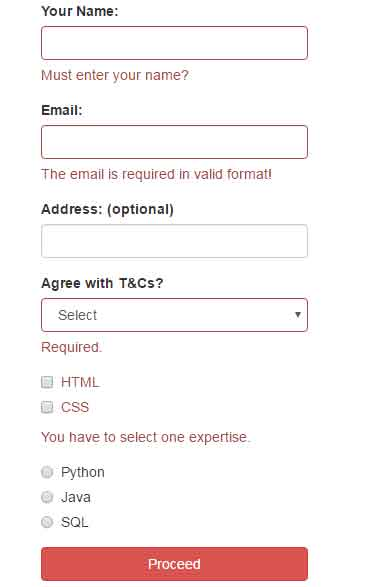checkbox: (36, 397, 58, 417), (36, 373, 55, 391)
dropdown: (32, 295, 314, 335)
radiobutton: (36, 464, 58, 483), (33, 514, 56, 532), (39, 490, 58, 505)
textbox: (36, 118, 318, 164), (34, 24, 318, 68), (34, 219, 322, 262)
